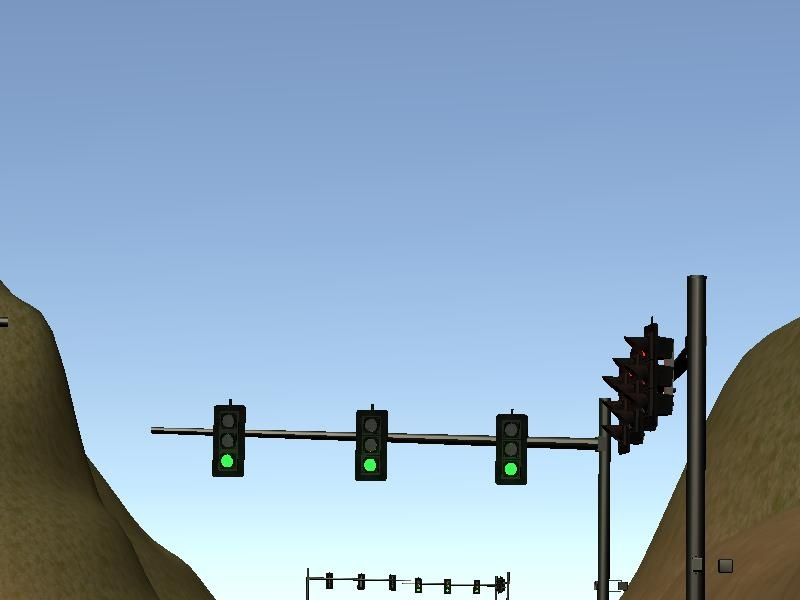GREEN: (352, 410, 389, 482), (494, 413, 529, 484), (211, 403, 245, 476)
